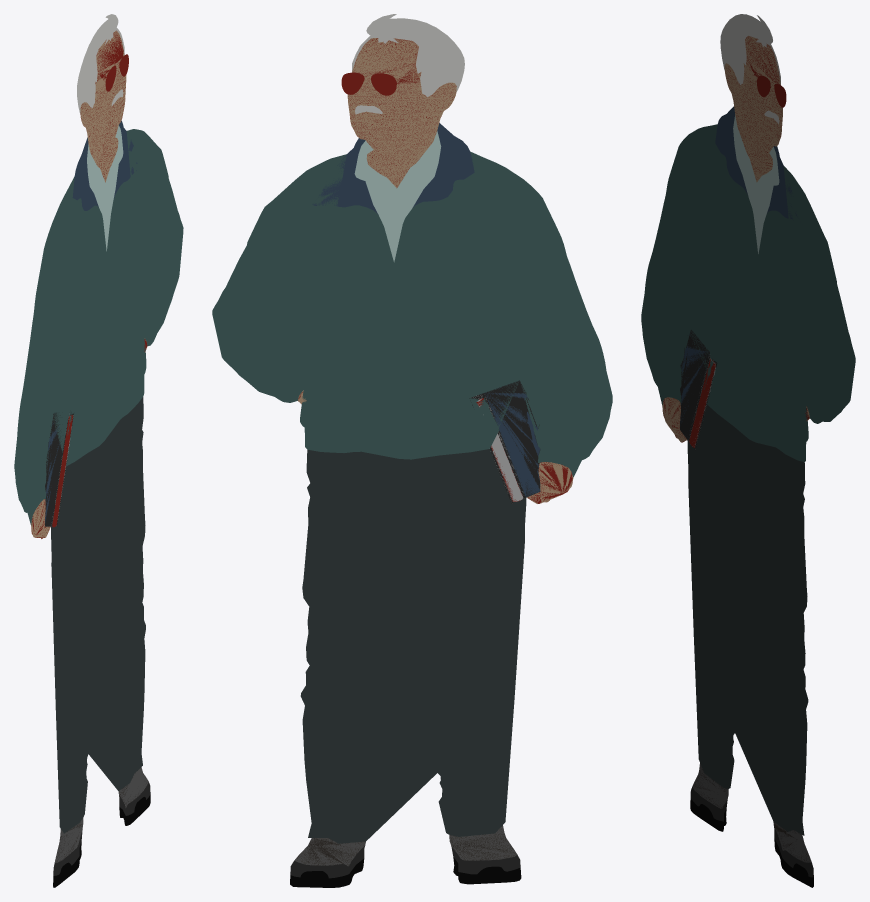
The model's file is square.fbx.
3 renders of one model, left to right at view 1: azimuth 30°, elevation 25°; view 2: azimuth 150°, elevation 25°; view 3: azimuth 270°, elevation 25°, orthographic. The views are drawn at different scales.
Visible parts, largest first — view 1: Steve1; view 2: Steve1; view 3: Steve1.
Boxes of the visible parts, x1=… form: Steve1: x1=14, y1=14, x2=183, y2=887; Steve1: x1=212, y1=14, x2=612, y2=887; Steve1: x1=641, y1=14, x2=855, y2=887.
Size of what is drawn, in the model's own units: 0.5878 by 1.69 by 0.3919.
